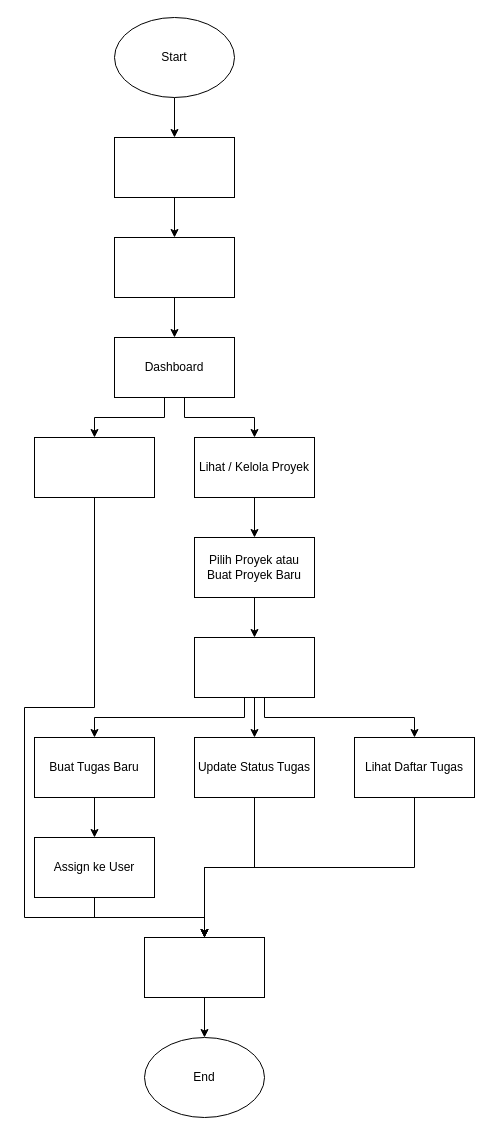
Image size: 492x1135. Some labels were removed from this diagram. Here are the shapes that lost their labels. From the top down, the centre of each, then its label:
At (x=174, y=167): "User".
At (x=174, y=267): "Login ke Sistem".
At (x=94, y=467): "Kelola Role".
At (x=254, y=667): "Kelola Tugas".
At (x=204, y=967): "Logout".
